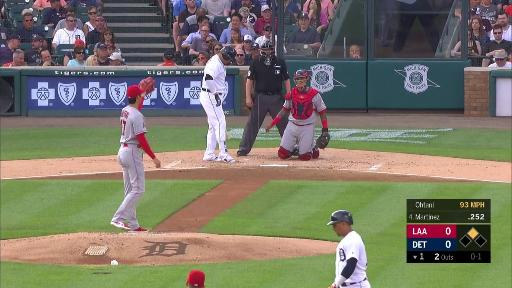pitcher: (110, 76, 162, 231)
